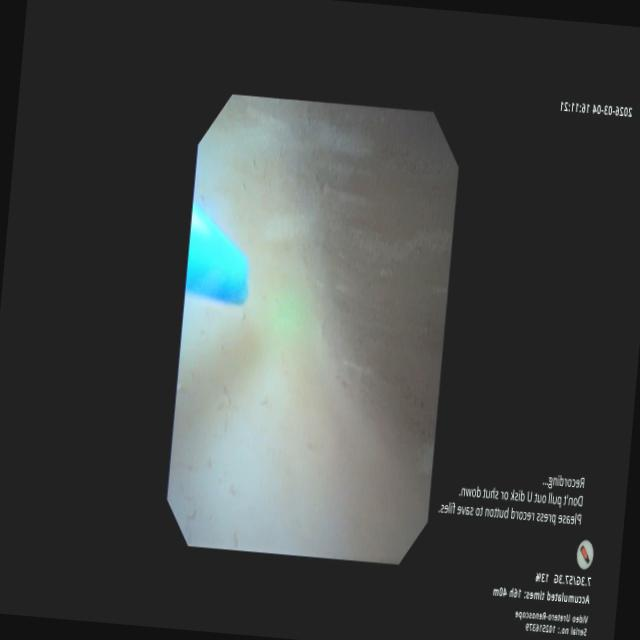laser_dot: (273, 285, 308, 332)
